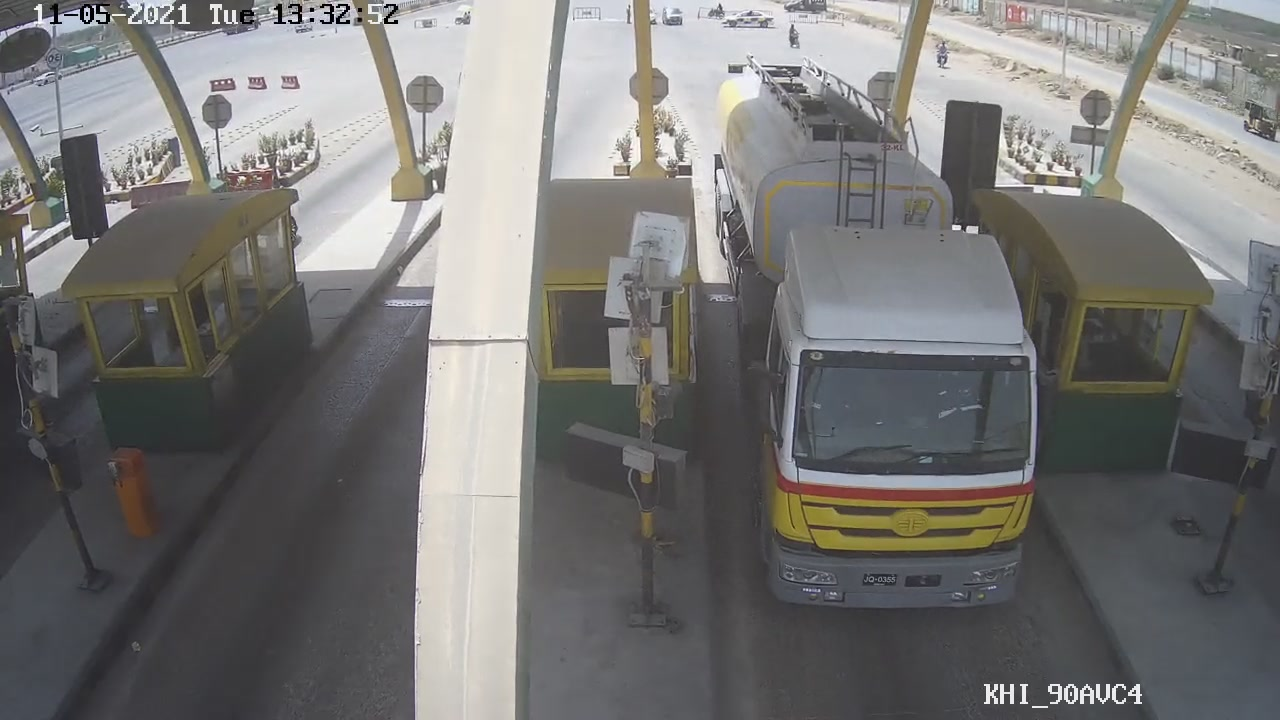F6: (709, 43, 1044, 626)
